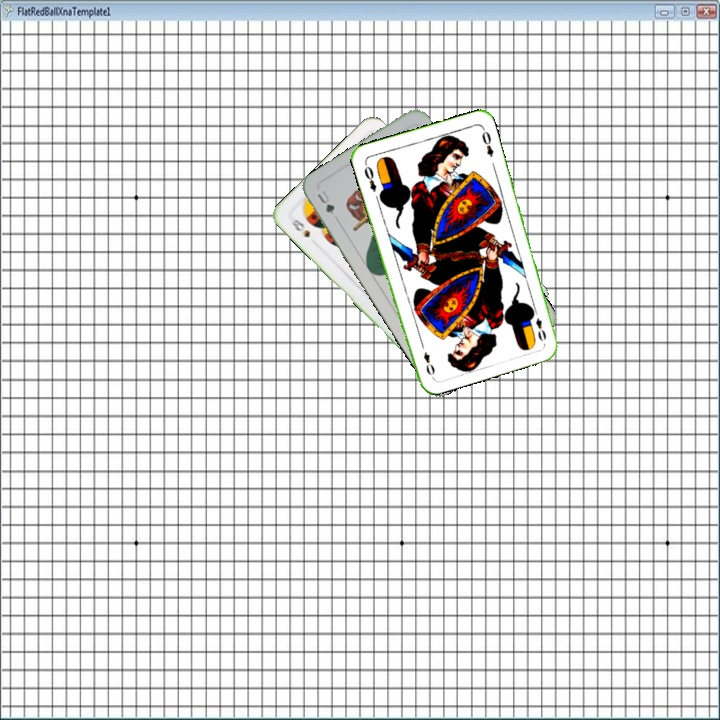EO: (528, 305, 549, 344), (360, 159, 379, 194)
GU: (313, 186, 337, 217)
S8: (287, 215, 313, 240)
